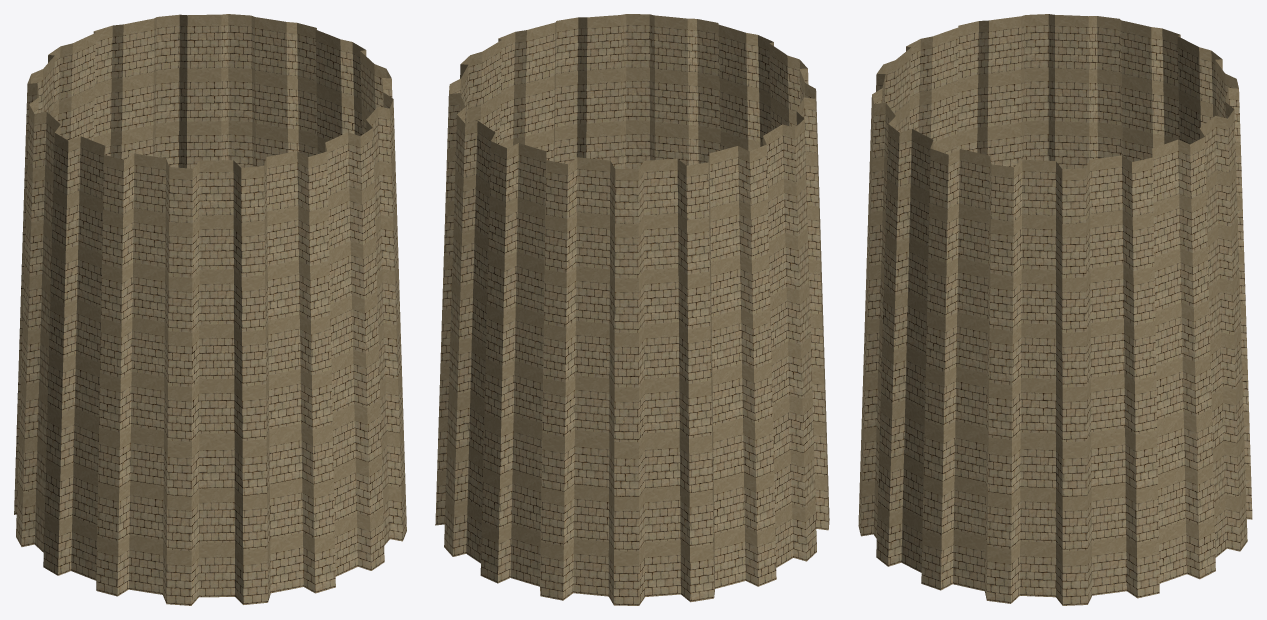
Rendered from CastleBottom.fbx.
3 views of the same model, side by side, from view 1: azimuth 30°, elevation 25°; view 2: azimuth 150°, elevation 25°; view 3: azimuth 270°, elevation 25° (orthographic).
Parts seen in each view (by area): view 1: Cylinder.003; view 2: Cylinder.003; view 3: Cylinder.003.
Part boxes in pixels (x1=…): Cylinder.003: x1=14, y1=14, x2=406, y2=605; Cylinder.003: x1=435, y1=14, x2=829, y2=605; Cylinder.003: x1=858, y1=14, x2=1252, y2=605.
Size of the model in its own units: 3276 by 3989 by 3276.
